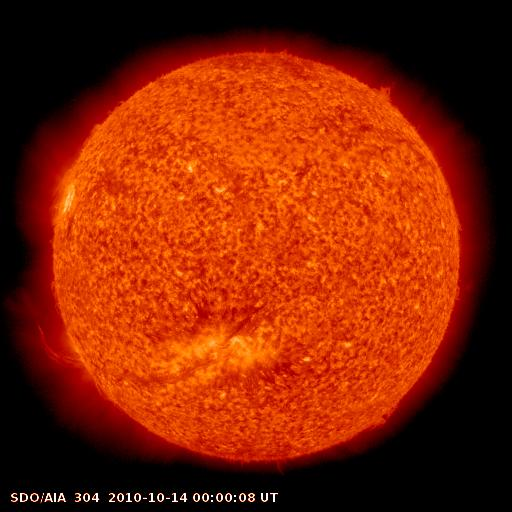prominence: (3, 293, 99, 391), (365, 393, 402, 441), (369, 69, 404, 110)
